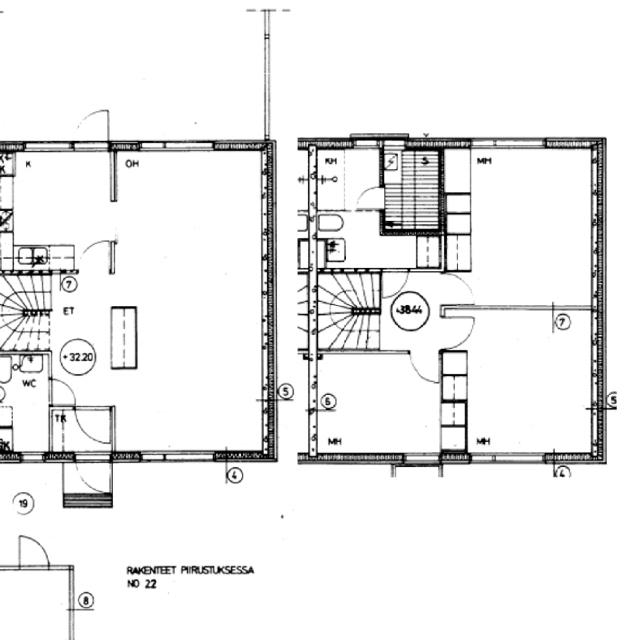door: (74, 452, 108, 498), (74, 106, 108, 152), (440, 316, 476, 348), (439, 274, 475, 304), (410, 348, 438, 382), (20, 537, 48, 570), (383, 267, 410, 299), (48, 378, 79, 404), (356, 186, 384, 209)
